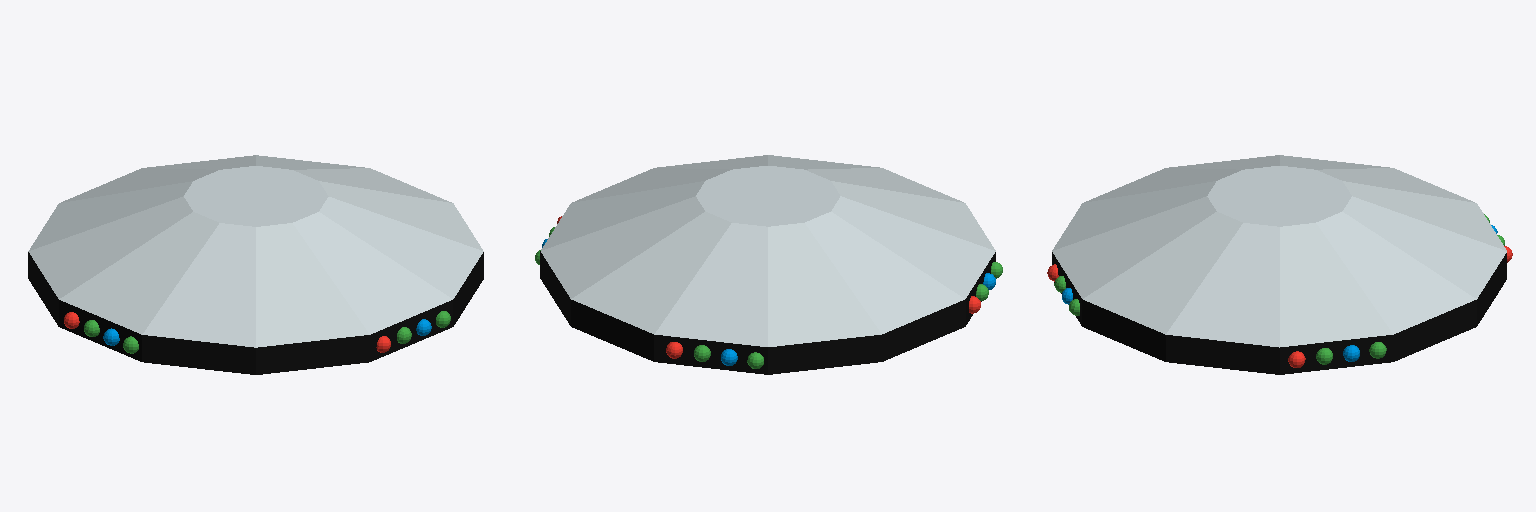
Rendered from UFO.obj.
The picture shows the model from 3 angles: view 1: azimuth 30°, elevation 25°; view 2: azimuth 150°, elevation 25°; view 3: azimuth 270°, elevation 25°; orthographic projection.
Visible parts, largest first — view 1: group[number redacted]; view 2: group[number redacted]; view 3: group[number redacted].
Boxes of the visible parts, x1=… form: group[number redacted]: x1=28, y1=155, x2=483, y2=374; group[number redacted]: x1=540, y1=155, x2=995, y2=374; group[number redacted]: x1=1052, y1=155, x2=1506, y2=374.
Bounding box in the file's own units: 0.528 × 0.1495 × 0.5273.